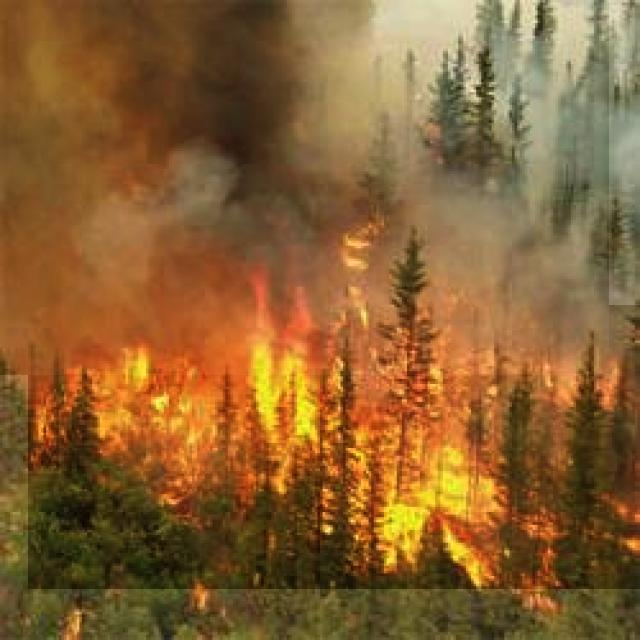Fire: (28, 305, 640, 589)
Smoke: (0, 0, 609, 375)
